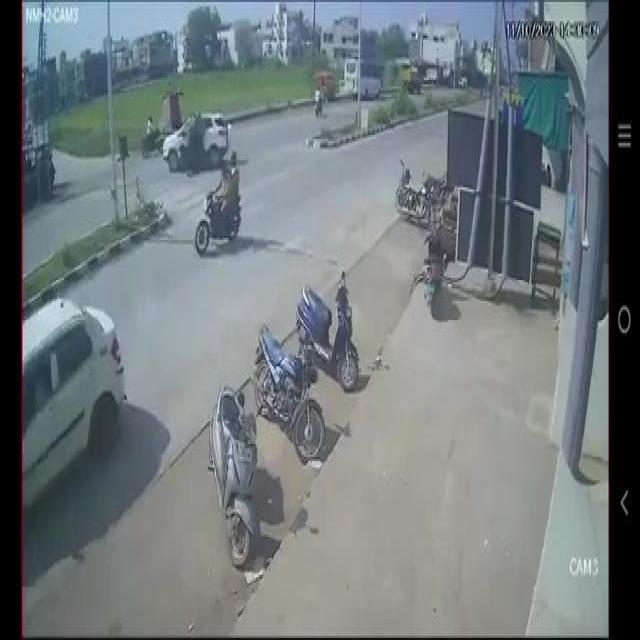accident: (161, 95, 239, 179)
